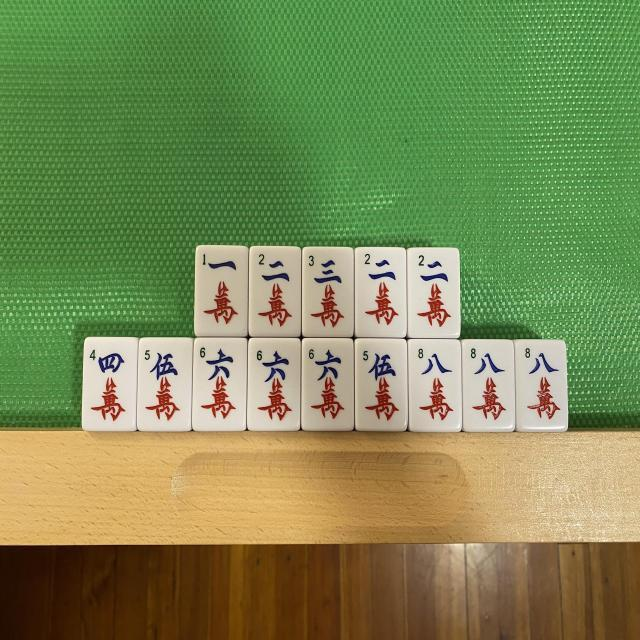sc1: (196, 246, 247, 335)
sc2: (354, 248, 406, 336), (248, 248, 300, 336), (408, 248, 458, 336)
sc3: (301, 248, 353, 336)
sc4: (82, 338, 136, 429)
sc5: (138, 338, 192, 432), (355, 340, 407, 430)
sc6: (192, 338, 246, 430), (302, 338, 354, 429), (248, 338, 300, 429)
sc8: (462, 339, 513, 432), (409, 341, 461, 432), (516, 341, 565, 431)
